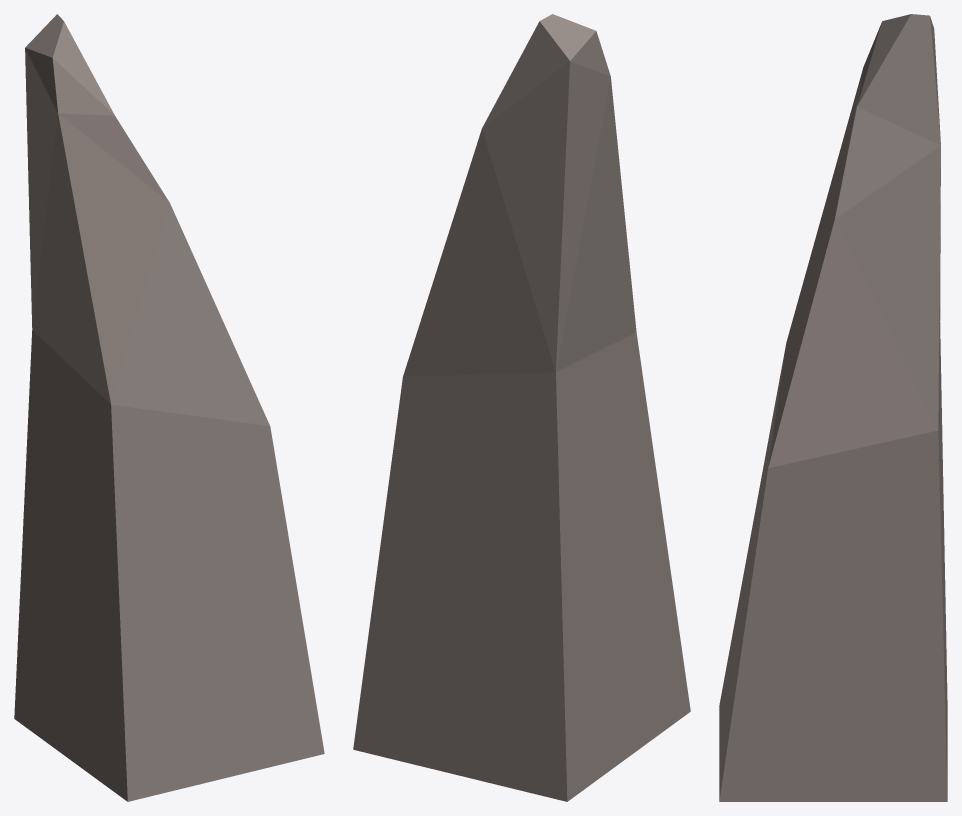
File: Rock_Sharp_s_08.fbx
The picture shows the model from 3 angles, left to right: view 1: azimuth 30°, elevation 25°; view 2: azimuth 150°, elevation 25°; view 3: azimuth 270°, elevation 25°; orthographic projection. The views are drawn at different scales.
Visible parts, largest first — view 1: Rock_Sharp_s_08; view 2: Rock_Sharp_s_08; view 3: Rock_Sharp_s_08.
Boxes of the visible parts, x1=… form: Rock_Sharp_s_08: x1=14, y1=14, x2=324, y2=801; Rock_Sharp_s_08: x1=353, y1=14, x2=690, y2=801; Rock_Sharp_s_08: x1=719, y1=14, x2=947, y2=801.
Size of the model in its own units: 20.78 by 70.93 by 20.75.
